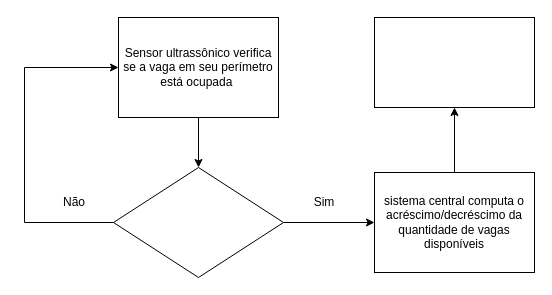
Image size: 552x295. Some labels were removed from this diagram. Here are the shapes that lost their labels. From the top down, the centre of each, then its label:
At pixel 454 62: "Quantidade de vagas disponíveis é apresentada no painel de led".
At pixel 198 222: "houve uma mudança de estado?".
